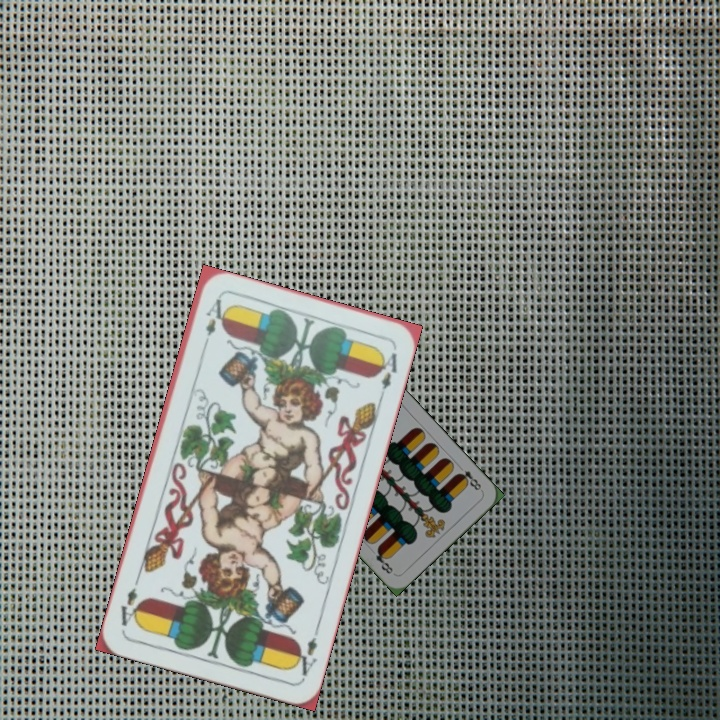E8: (453, 461, 485, 494)
EA: (290, 623, 322, 681), (198, 294, 224, 352)
